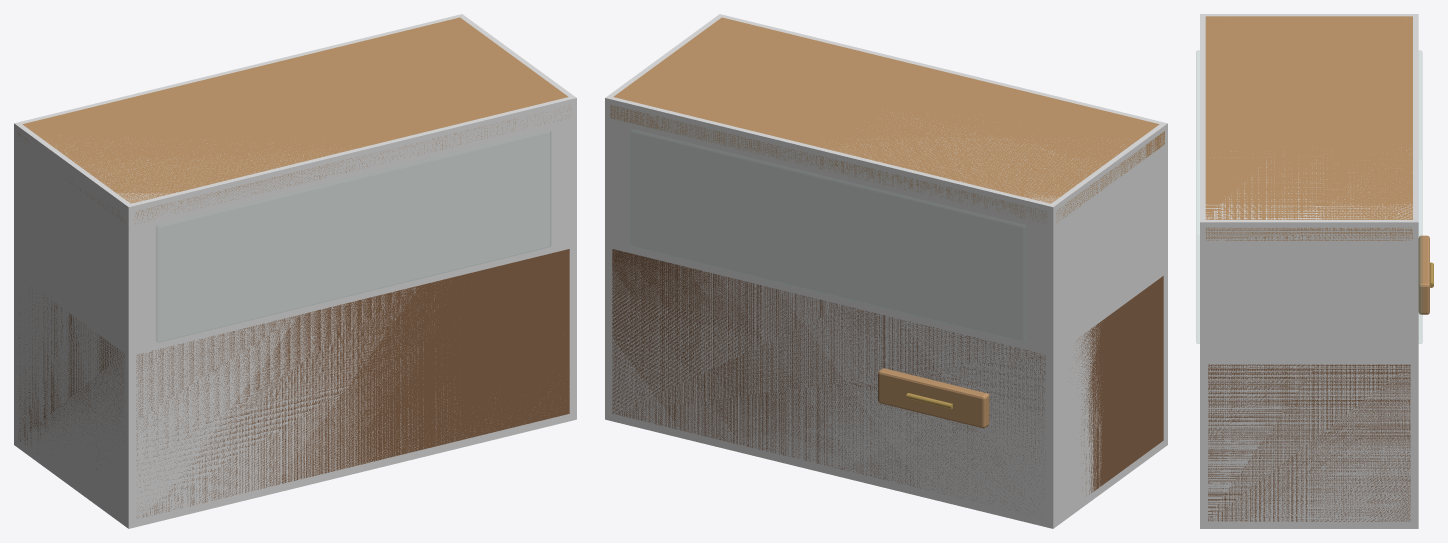
Rendered from premium.glb.
The picture shows the model from 3 angles, left to right: view 1: azimuth 30°, elevation 25°; view 2: azimuth 150°, elevation 25°; view 3: azimuth 270°, elevation 25°; orthographic projection. The views are drawn at different scales.
Visible parts, largest first — view 1: COL_JEWELRY_CASES_PREMIUM, Showcase_Plinth.002, Showcase_Cap.002, Showcase_GlassBack.002; view 2: COL_JEWELRY_CASES_PREMIUM, Showcase_Plinth.002, Showcase_Cap.002, Jewelry_Drawer_1, Showcase_GlassFront.002; view 3: COL_JEWELRY_CASES_PREMIUM, Showcase_Cap.002, Showcase_Plinth.002, Showcase_GlassBack.002, Showcase_GlassFront.002, Jewelry_Drawer_1.
Part boxes in pixels (x1=…): COL_JEWELRY_CASES_PREMIUM: x1=14, y1=14, x2=576, y2=528; Showcase_Plinth.002: x1=18, y1=249, x2=569, y2=518; Showcase_Cap.002: x1=17, y1=17, x2=571, y2=223; Showcase_GlassBack.002: x1=156, y1=130, x2=550, y2=342; COL_JEWELRY_CASES_PREMIUM: x1=605, y1=14, x2=1167, y2=528; Showcase_Plinth.002: x1=612, y1=249, x2=1163, y2=515; Showcase_Cap.002: x1=610, y1=17, x2=1164, y2=222; Jewelry_Drawer_1: x1=878, y1=368, x2=989, y2=428; Showcase_GlassFront.002: x1=631, y1=130, x2=1025, y2=342; COL_JEWELRY_CASES_PREMIUM: x1=1200, y1=14, x2=1418, y2=528; Showcase_Cap.002: x1=1205, y1=16, x2=1412, y2=240; Showcase_Plinth.002: x1=1208, y1=364, x2=1410, y2=521; Showcase_GlassBack.002: x1=1196, y1=50, x2=1199, y2=343; Showcase_GlassFront.002: x1=1419, y1=50, x2=1422, y2=343; Jewelry_Drawer_1: x1=1418, y1=235, x2=1429, y2=314.
Size of the model in its own units: 1.54 by 1.06 by 0.7424.
